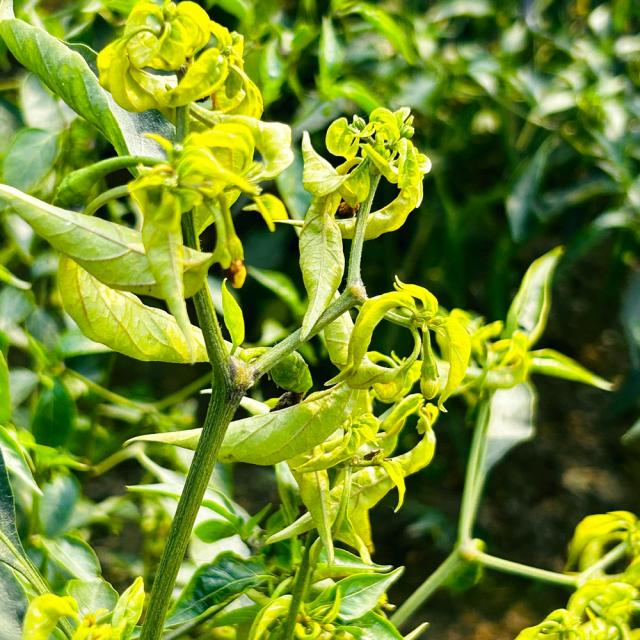Chilli_Leaf_Curl: (1, 0, 475, 638), (123, 382, 365, 468), (326, 275, 472, 411), (299, 104, 432, 241), (95, 0, 249, 115), (55, 253, 212, 365)
